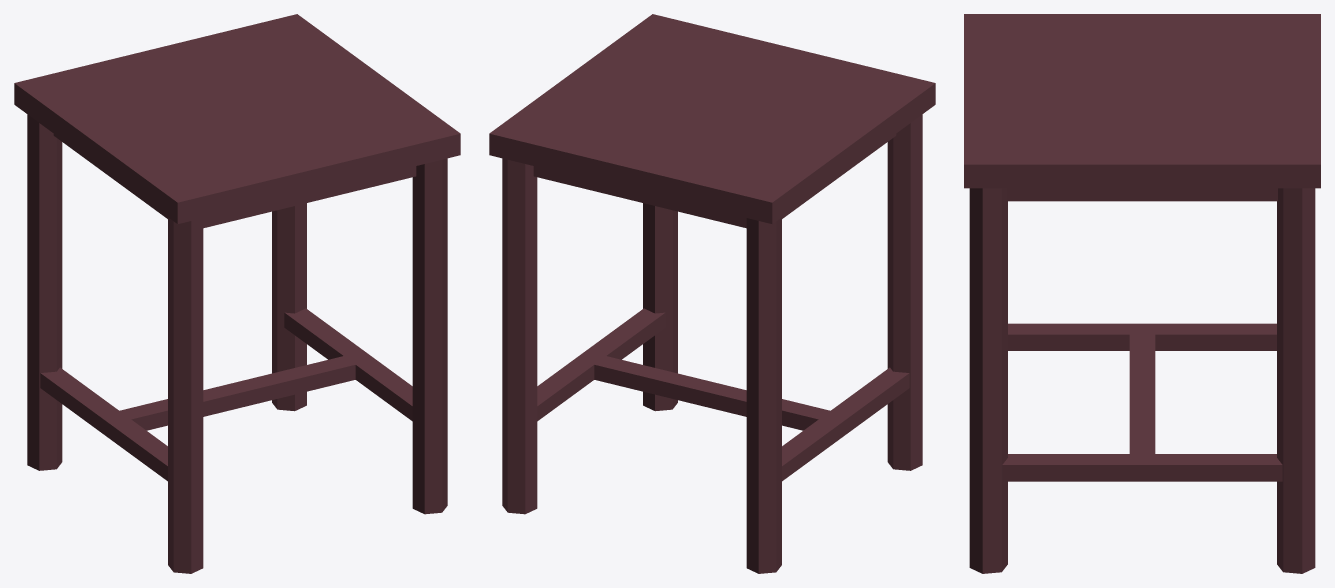
Rendered from furniture-table-bar-square.glb.
3 renders of one model, left to right at view 1: azimuth 30°, elevation 25°; view 2: azimuth 150°, elevation 25°; view 3: azimuth 270°, elevation 25°, orthographic. The views are drawn at different scales.
Parts seen in each view (by area): view 1: table-bar-square; view 2: table-bar-square; view 3: table-bar-square.
Boxes of the visible parts, x1,y1,x2,y2 form: table-bar-square: (14, 14, 460, 573); table-bar-square: (489, 14, 935, 573); table-bar-square: (964, 14, 1320, 573).
Size of the model in its own units: 0.825 by 1.05 by 0.825.
